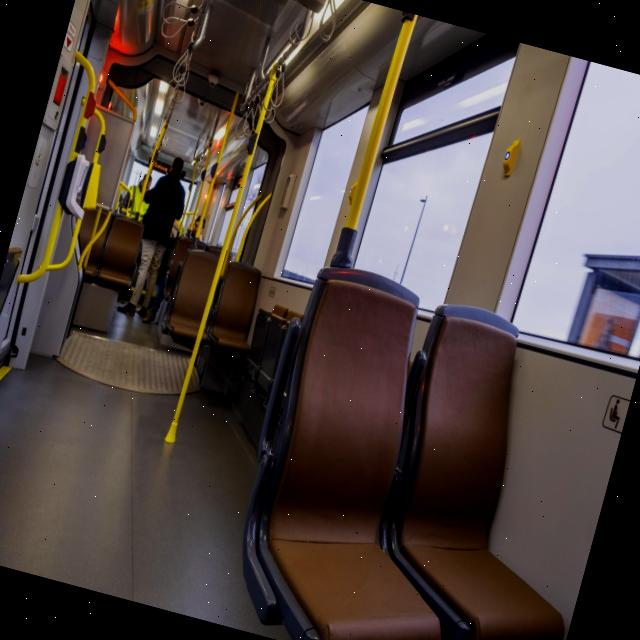empty-seat-frontal: (216, 254, 529, 640), (342, 293, 640, 640), (161, 241, 229, 344), (204, 260, 272, 356), (92, 208, 150, 294)
